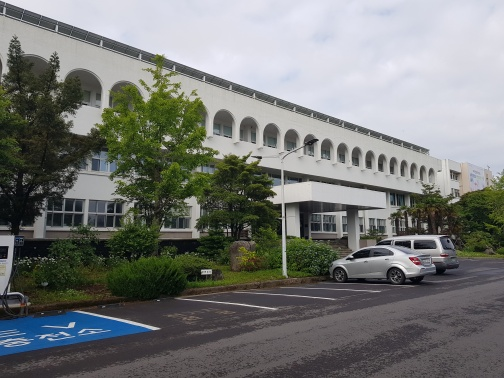Main Building of University: (13, 16, 444, 231), (212, 108, 351, 167), (252, 179, 393, 233), (352, 146, 437, 185)
